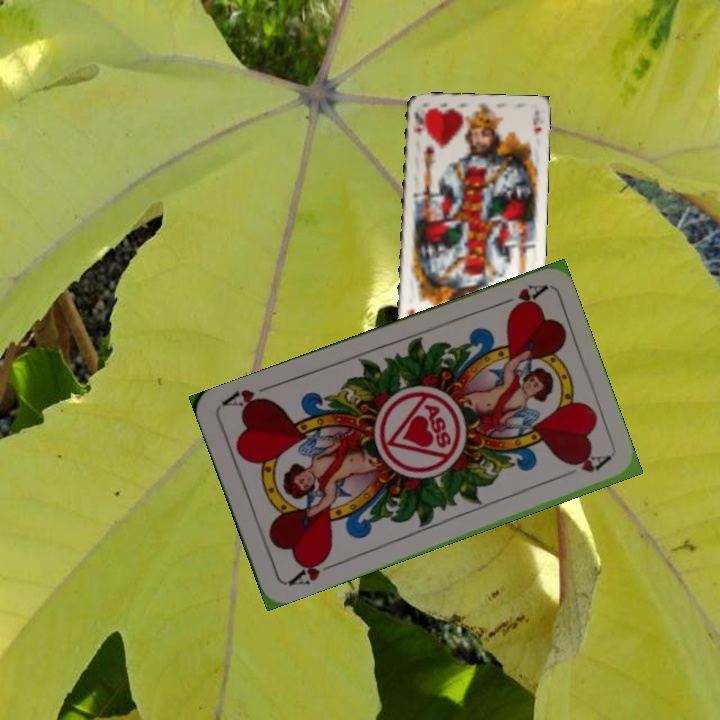HA: (284, 550, 340, 589), (490, 280, 548, 315)
HK: (410, 107, 425, 138)
